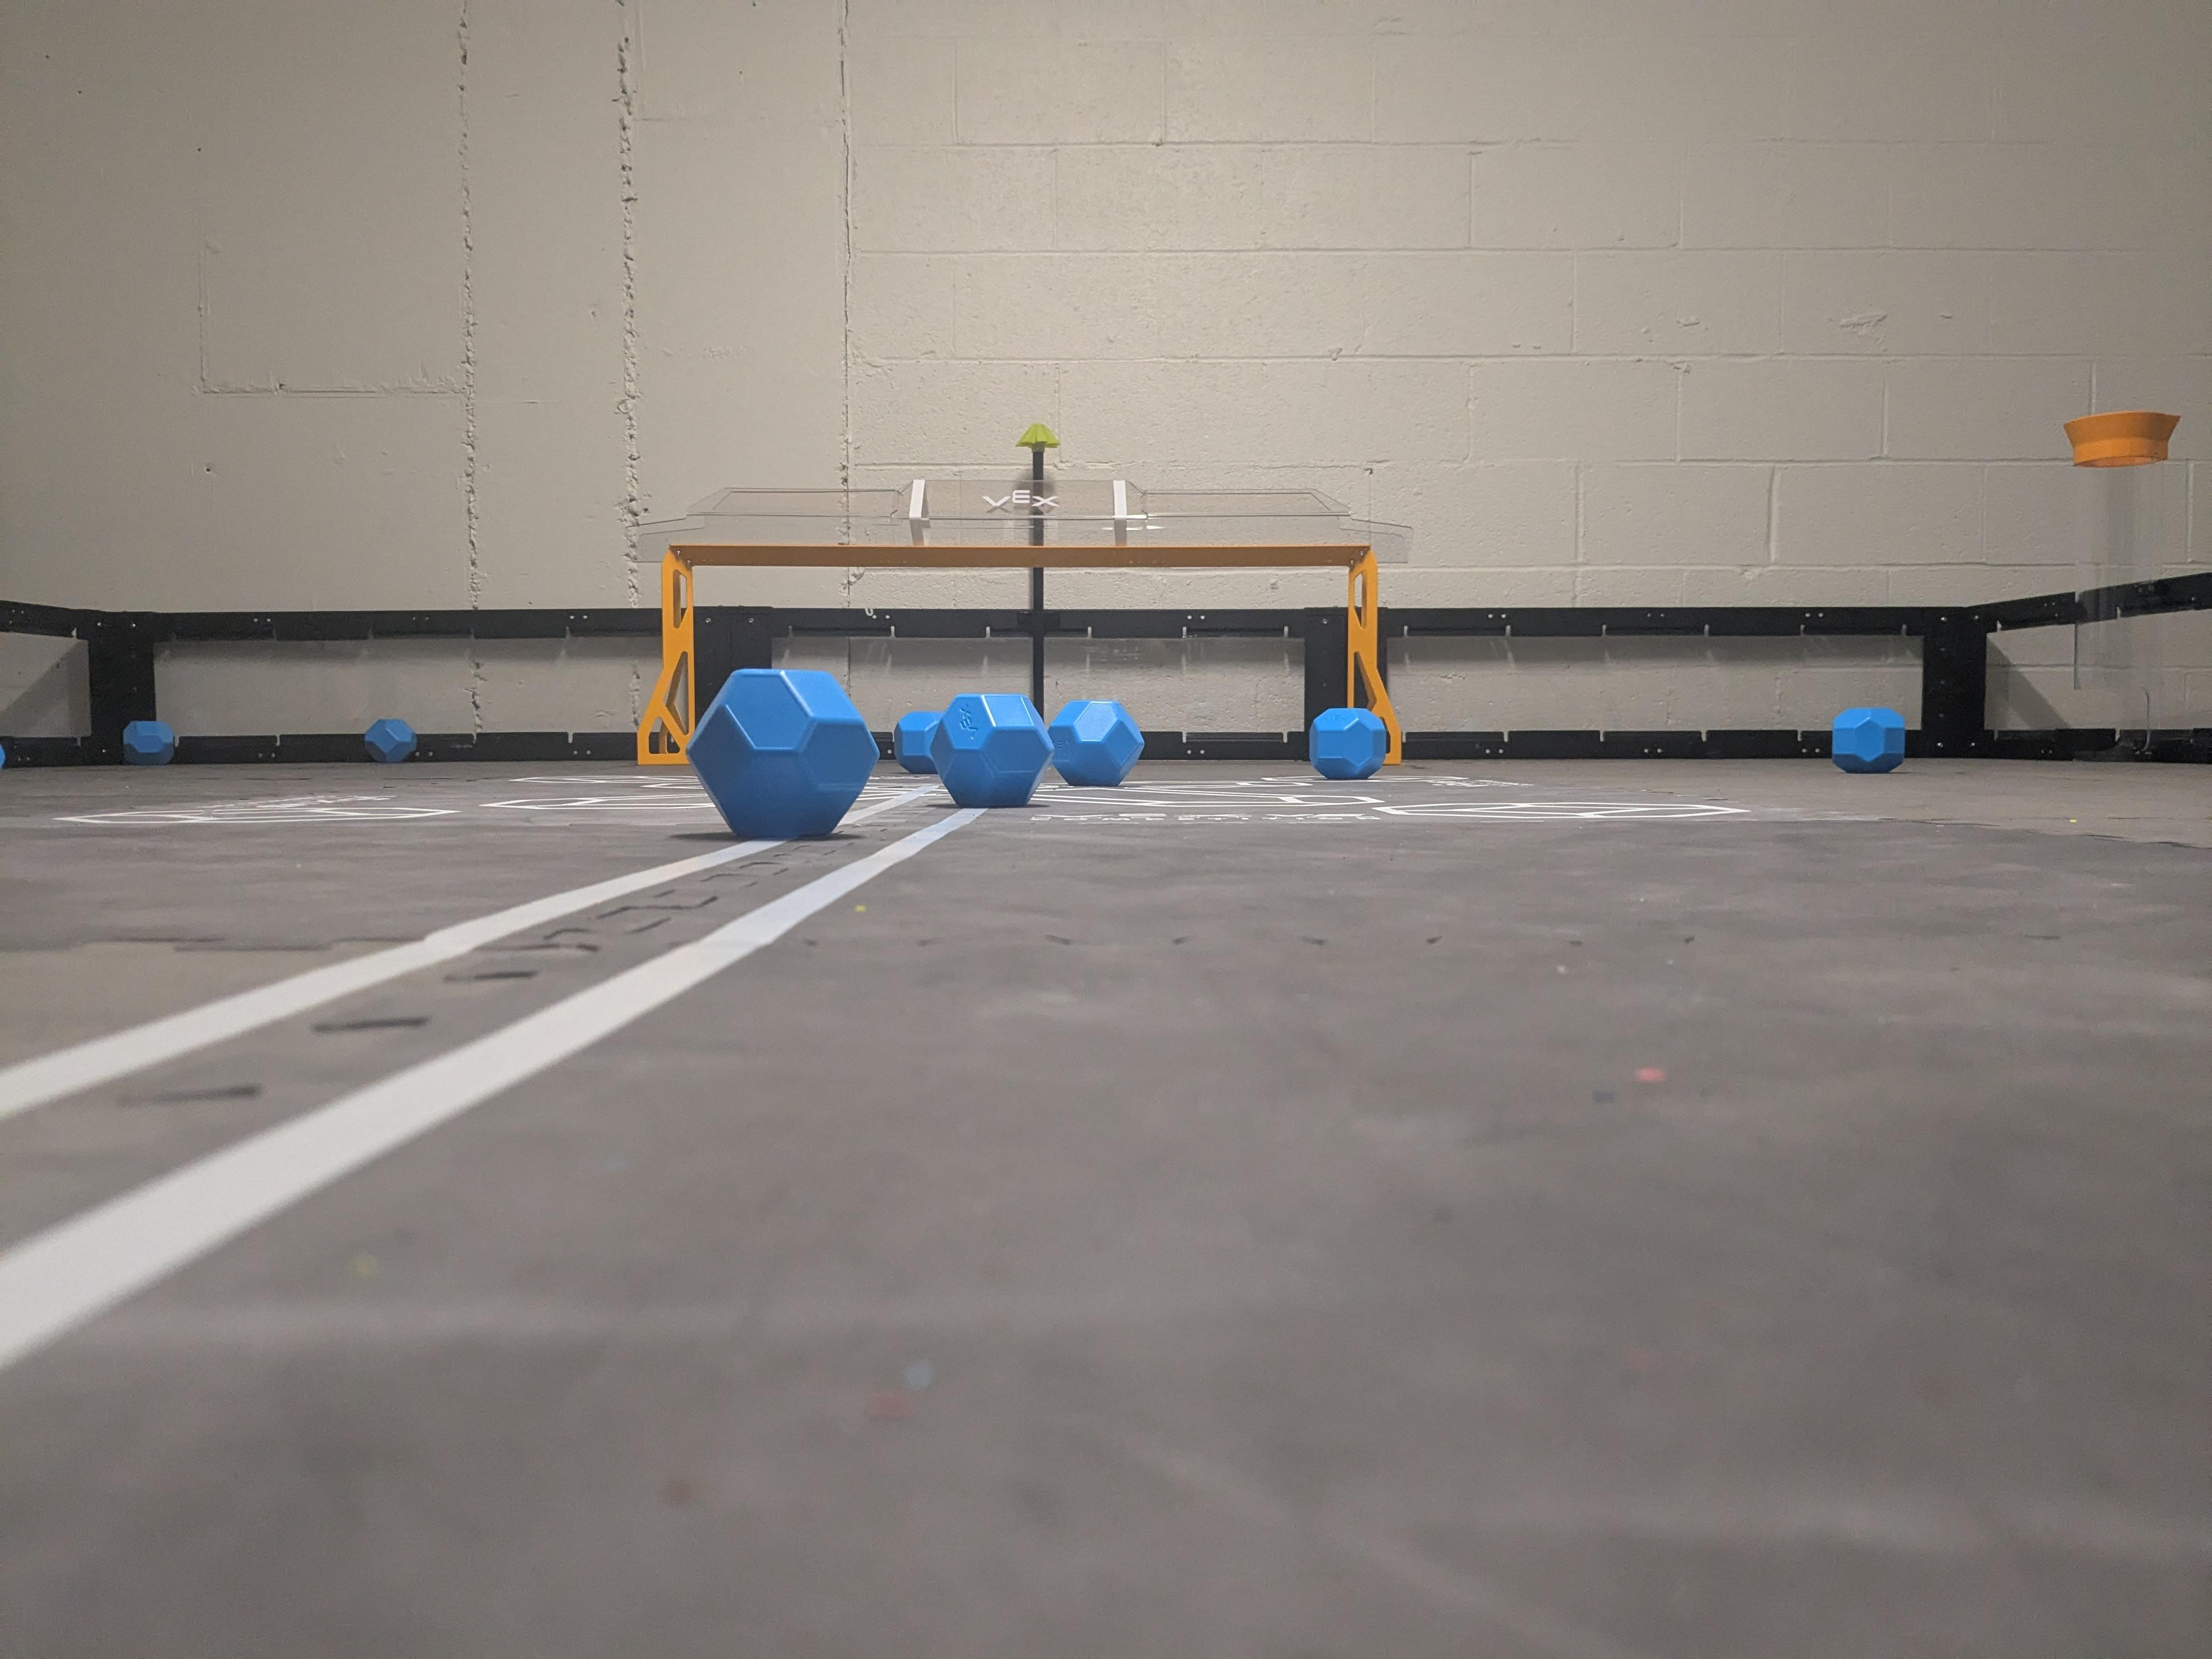Vex-Pieces-BLUE: (691, 671, 878, 836), (932, 694, 1052, 807), (1050, 701, 1144, 786), (1303, 709, 1392, 774), (1829, 709, 1904, 774), (894, 711, 941, 772), (124, 720, 176, 765), (364, 718, 416, 762)
